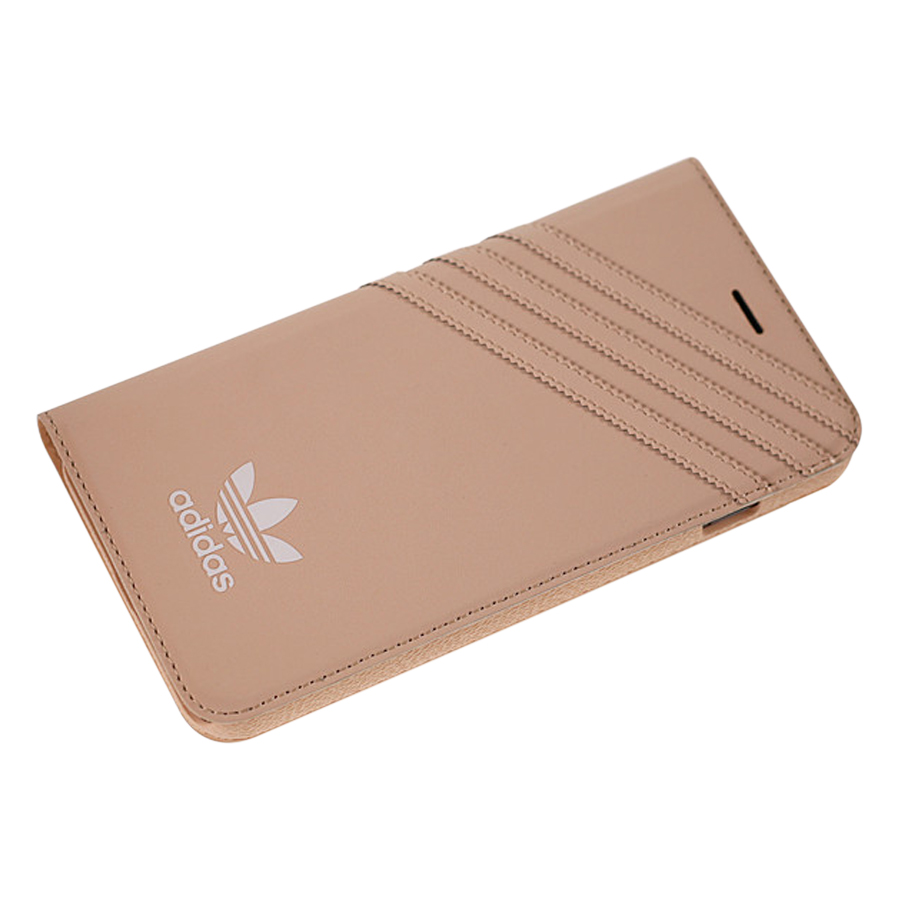Adidas: (163, 453, 308, 595)
